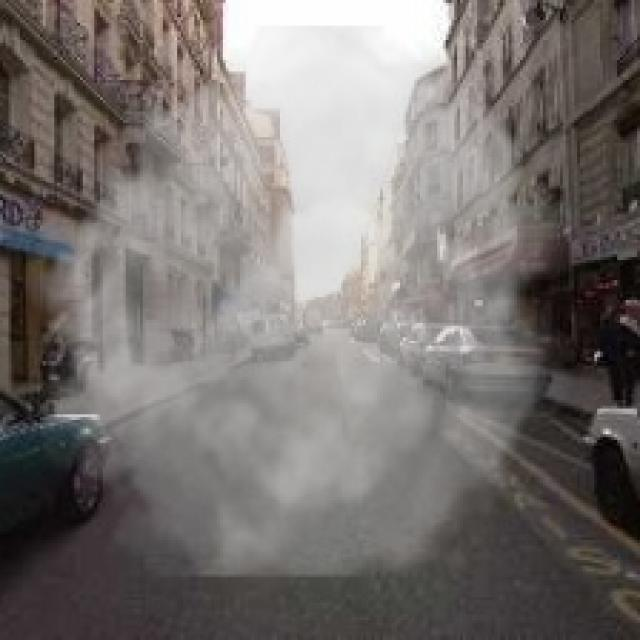smoke: (17, 26, 586, 577)
